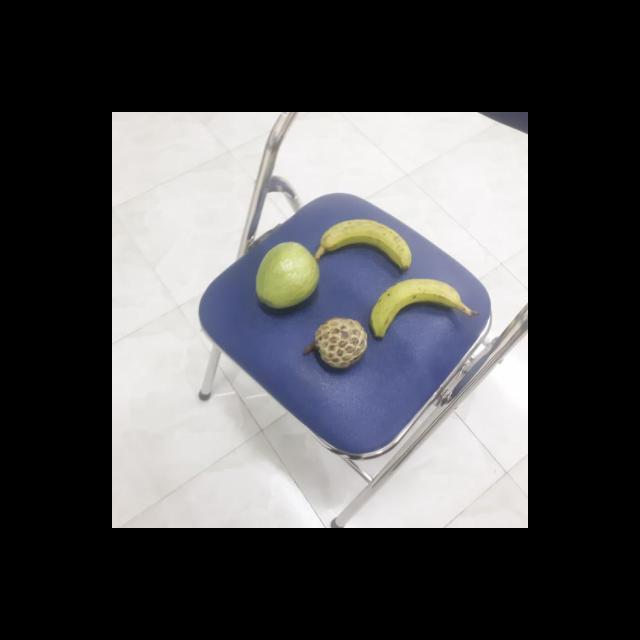Sakya fruit: (306, 317, 368, 368)
banana: (365, 279, 462, 338), (314, 222, 410, 276)
